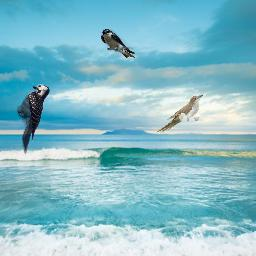Cuckoo: (156, 95, 203, 133)
Swallow: (101, 29, 135, 58)
Woodpecker: (16, 81, 50, 155)
